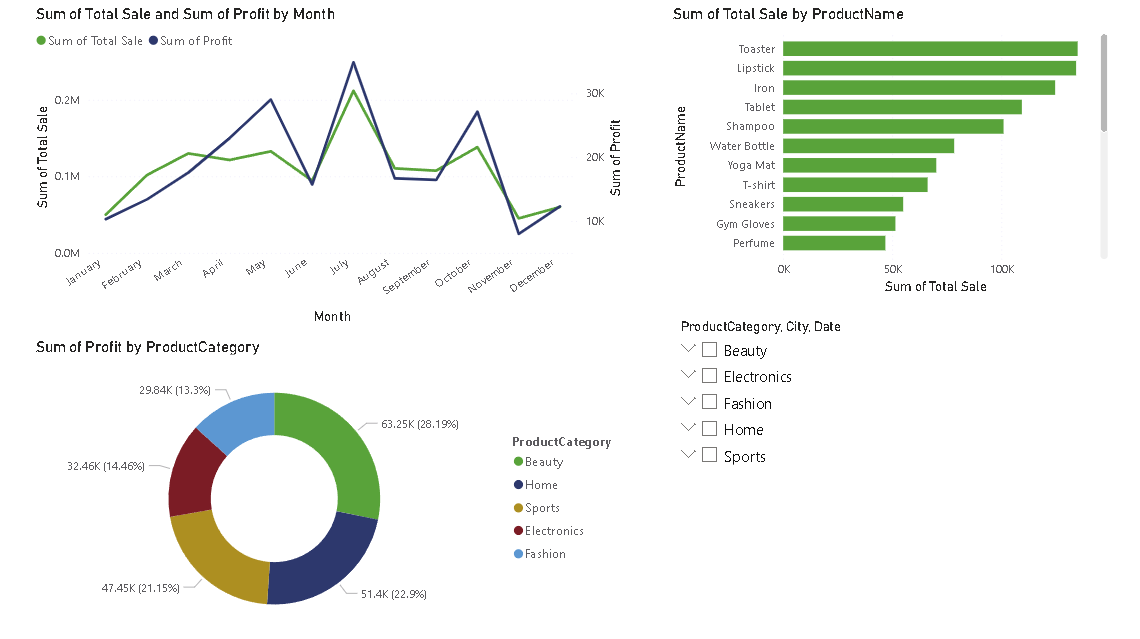

What the dashboard file says about the page in this screenshot:
{"tool":"powerbi","page":{"name":"Page 2","canvas":[1280,720],"ordinal":1},"visuals":[{"type":"lineChart","fields":{"Y":["Sum(electrohub_sales.Total Sale)"],"Category":["electrohub_sales.Date.Variation.Date Hierarchy.Month"],"Y2":["Sum(electrohub_sales.Profit)"]},"box":[34.3,19.2,654.5,355.4],"z":0},{"type":"clusteredBarChart","fields":{"Y":["Sum(electrohub_sales.Total Sale)"],"Category":["electrohub_sales.ProductName"]},"box":[734.1,19.2,487.1,322.5],"z":1},{"type":"donutChart","fields":{"Y":["Sum(electrohub_sales.Profit)"],"Category":["electrohub_sales.ProductCategory"]},"box":[34,384,655,336],"z":2},{"type":"slicer","fields":{"Values":["electrohub_sales.ProductCategory","electrohub_sales.City","electrohub_sales.Date"]},"box":[734.1,359.5,487.1,336.2],"z":3}]}

Visuals, with their boxes in screenshot pixels (x1, y1, x2, y2), scaled from the page's 1280x720 canvas onto the 1140x639 screenshot:
lineChart - Sum(electrohub_sales.Total Sale) x electrohub_sales.Date.Variation.Date Hierarchy.Month: left=31, top=17, right=613, bottom=332
clusteredBarChart - Sum(electrohub_sales.Total Sale) x electrohub_sales.ProductName: left=654, top=17, right=1088, bottom=303
donutChart - Sum(electrohub_sales.Profit) x electrohub_sales.ProductCategory: left=30, top=341, right=614, bottom=638
slicer - electrohub_sales.ProductCategory x electrohub_sales.City: left=654, top=319, right=1088, bottom=617
